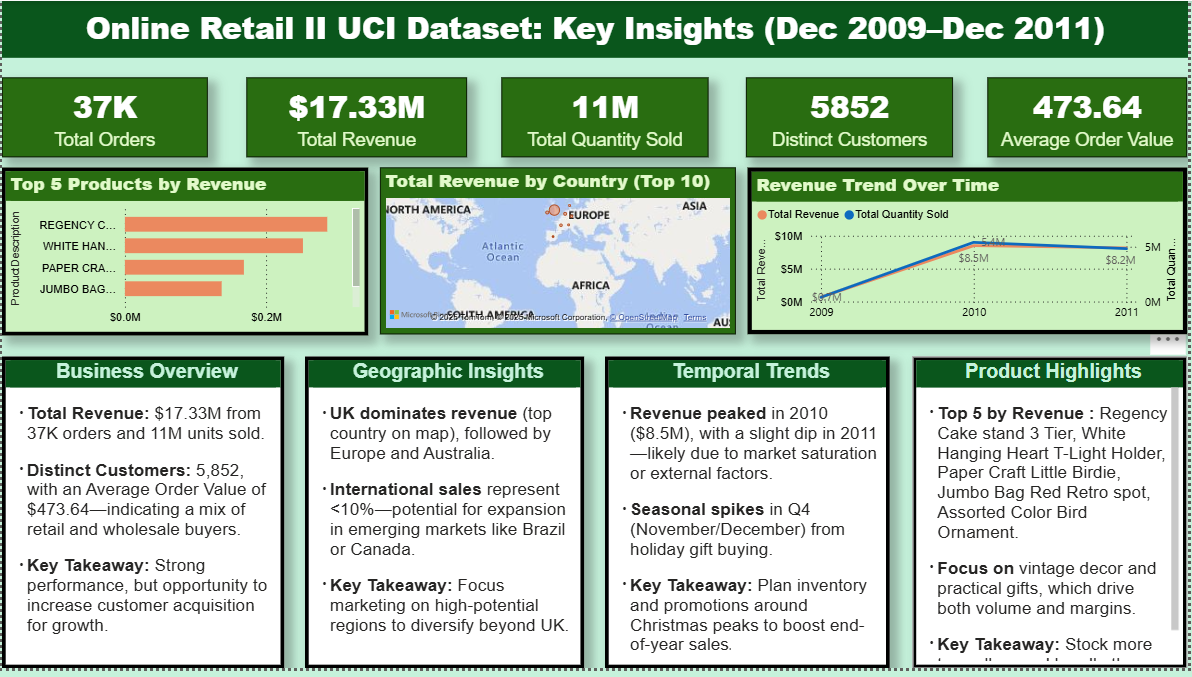

Layout of this report page (visuals, bound fields, positions):
{"tool":"powerbi","page":{"name":"Key Insights","canvas":[1280,720],"ordinal":0},"visuals":[{"type":"textbox","box":[0,0,1280.8,61.5],"z":0},{"type":"card","fields":{"Values":["Sheet 1.Total Orders"]},"box":[0,82.6,221.8,85.8],"z":1000},{"type":"card","fields":{"Values":["Sheet 1.Total Revenue"]},"box":[263.9,82.6,238,85.8],"z":2000},{"type":"card","fields":{"Values":["Sheet 1.Total Quantity Sold"]},"box":[539.2,82.6,223.5,85.8],"z":3000},{"type":"card","fields":{"Values":["Sheet 1.Average Order Value"]},"box":[1063.8,82.6,215.4,85.8],"z":4000},{"type":"card","fields":{"Values":["Sheet 1.Distinct Customers"]},"box":[803.1,82.6,223.5,85.8],"z":5000},{"type":"textbox","title":"Business Overview","box":[0,383.8,304.4,336.8],"z":6000},{"type":"textbox","title":"Geographic Insights","box":[327.1,383.8,301.2,336.8],"z":7000},{"type":"textbox","title":"Temporal Trends","box":[650.9,383.8,307.7,336.8],"z":8000},{"type":"textbox","title":"Product Highlights","box":[982.9,383.8,296.3,336.8],"z":9000},{"type":"map","title":"Total Revenue by Country (Top 10)","fields":{"Category":["Sheet 1.Country"],"Size":["Sheet 1.Total Revenue"]},"box":[408,179.7,383.8,179.7],"z":10000},{"type":"lineChart","title":"Revenue Trend Over Time","fields":{"Category":["Sheet 1.InvoiceDate.Variation.Date Hierarchy.Year","Sheet 1.InvoiceDate.Variation.Date Hierarchy.Quarter","Sheet 1.InvoiceDate.Variation.Date Hierarchy.Month","Sheet 1.InvoiceDate.Variation.Date Hierarchy.Day"],"Y":["Sheet 1.Total Revenue"],"Y2":["Sheet 1.Total Quantity Sold"]},"box":[804.8,179.7,474.4,179.7],"z":11000},{"type":"clusteredBarChart","title":"Top 5 Products by Revenue","fields":{"Category":["Sheet 1.ProductDescription"],"Y":["Sheet 1.Total Revenue"]},"box":[0,179.7,395.1,181.4],"z":12000}]}

Visuals, with their boxes in screenshot pixels (x1, y1, x2, y2), scaled from the page's 1280x720 canvas onto the 1192x677 screenshot:
textbox: detection(0, 0, 1191, 58)
card - Sheet 1.Total Orders: detection(0, 78, 207, 158)
card - Sheet 1.Total Revenue: detection(246, 78, 467, 158)
card - Sheet 1.Total Quantity Sold: detection(502, 78, 710, 158)
card - Sheet 1.Average Order Value: detection(991, 78, 1191, 158)
card - Sheet 1.Distinct Customers: detection(748, 78, 956, 158)
"Business Overview" textbox: detection(0, 361, 283, 676)
"Geographic Insights" textbox: detection(305, 361, 585, 676)
"Temporal Trends" textbox: detection(606, 361, 893, 676)
"Product Highlights" textbox: detection(915, 361, 1191, 676)
"Total Revenue by Country (Top 10)" map: detection(380, 169, 737, 338)
"Revenue Trend Over Time" lineChart: detection(749, 169, 1191, 338)
"Top 5 Products by Revenue" clusteredBarChart: detection(0, 169, 368, 340)
